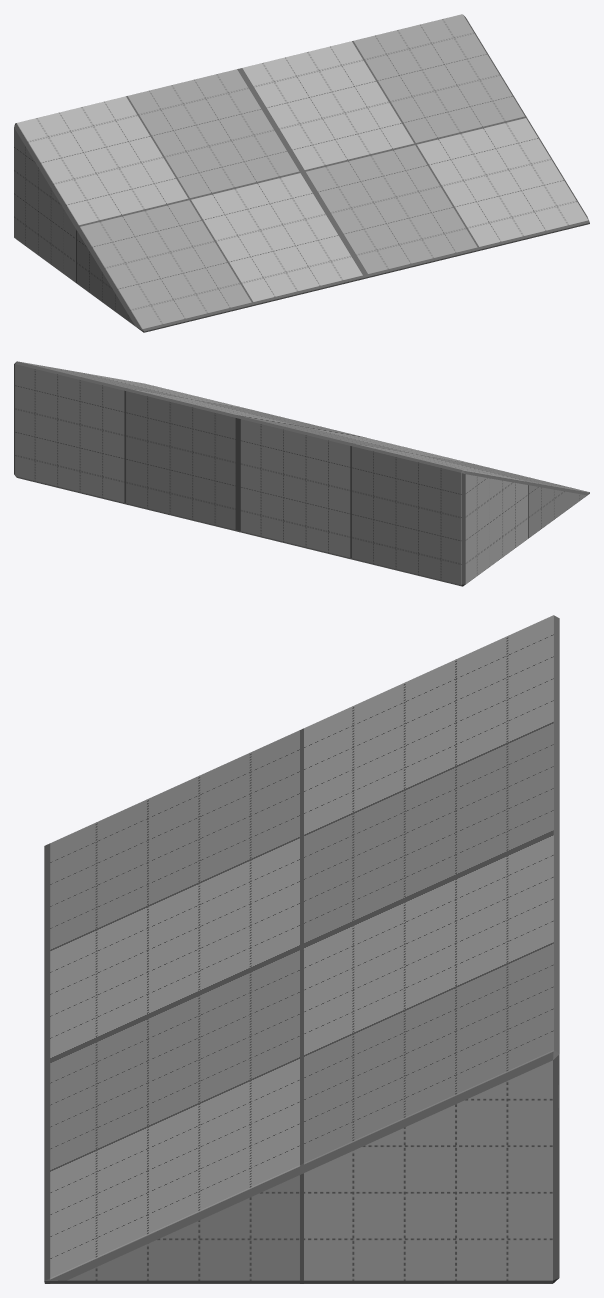
Rendered from Ramp2x2_1x1.fbx.
3 renders of one model, top to bottom at view 1: azimuth 30°, elevation 25°; view 2: azimuth 150°, elevation 25°; view 3: azimuth 270°, elevation 25°, orthographic. The views are drawn at different scales.
Visible parts, largest first — view 1: Ramp2x2_1x1; view 2: Ramp2x2_1x1; view 3: Ramp2x2_1x1.
Boxes of the visible parts, x1=… form: Ramp2x2_1x1: x1=14, y1=14, x2=589, y2=332; Ramp2x2_1x1: x1=14, y1=361, x2=589, y2=586; Ramp2x2_1x1: x1=44, y1=615, x2=559, y2=1283.
Size of the model in its own units: 200 by 49.42 by 98.84.
